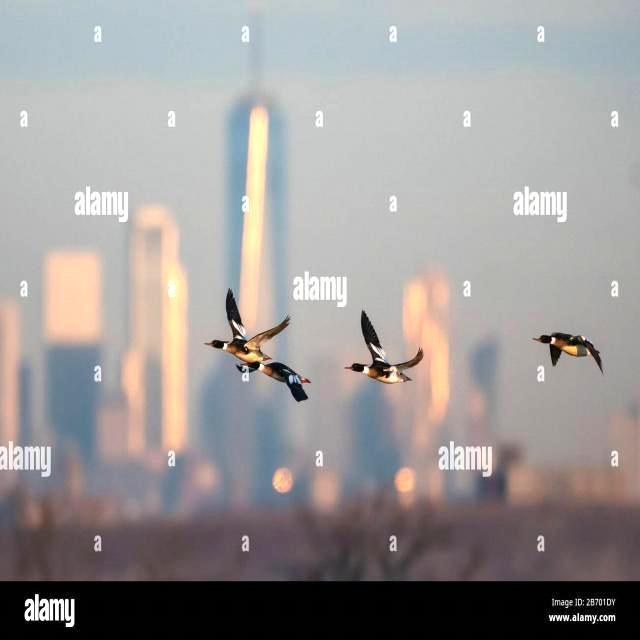bird: (333, 312, 428, 398), (536, 304, 616, 396), (198, 301, 284, 365), (227, 354, 315, 410)
